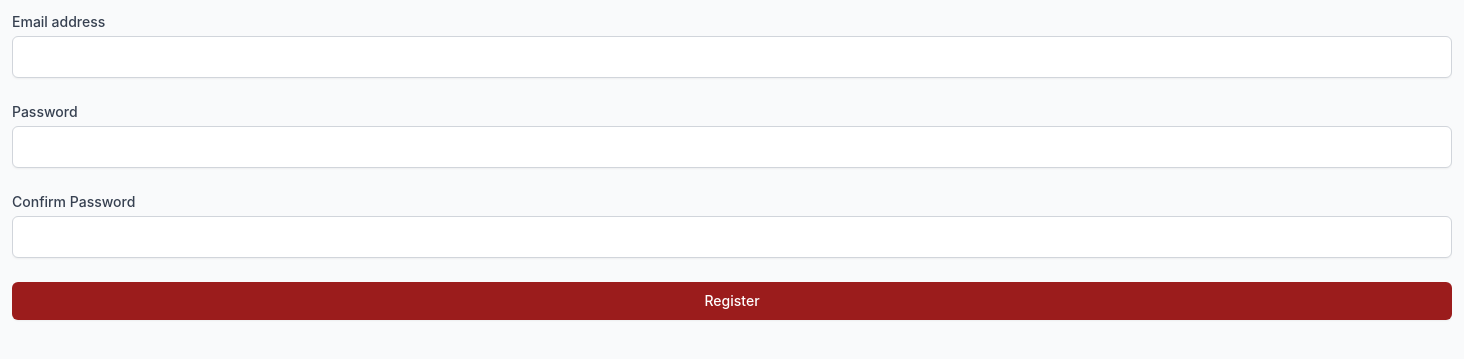
Test case: RegisterForm › User interactions › dismisses toast when clicked
The width and height of the screenshot is (1464, 359).
In the field labelled "Email address": (732,57) [12, 36, 1452, 78], type "test@example.com"
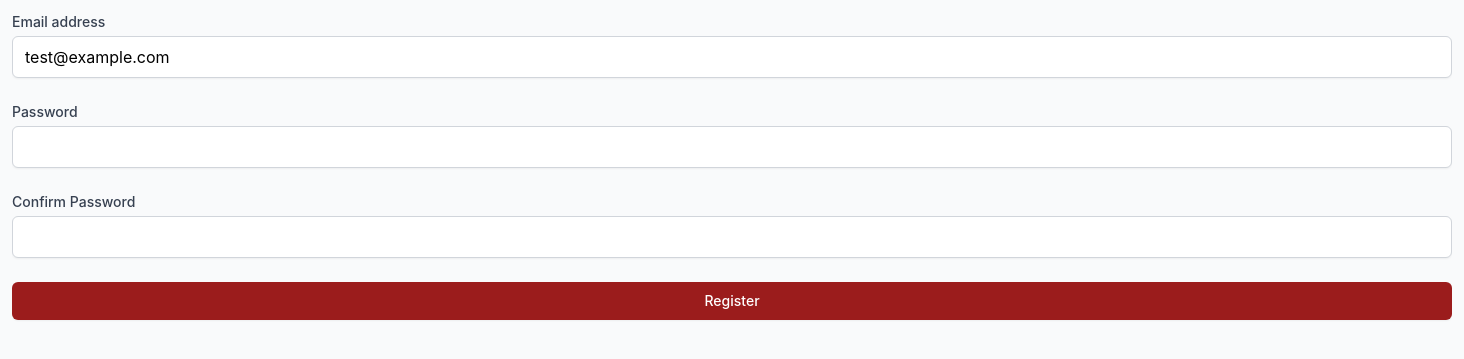
In the password field labelled "Password": (732,147) [12, 126, 1452, 168], type "password123"
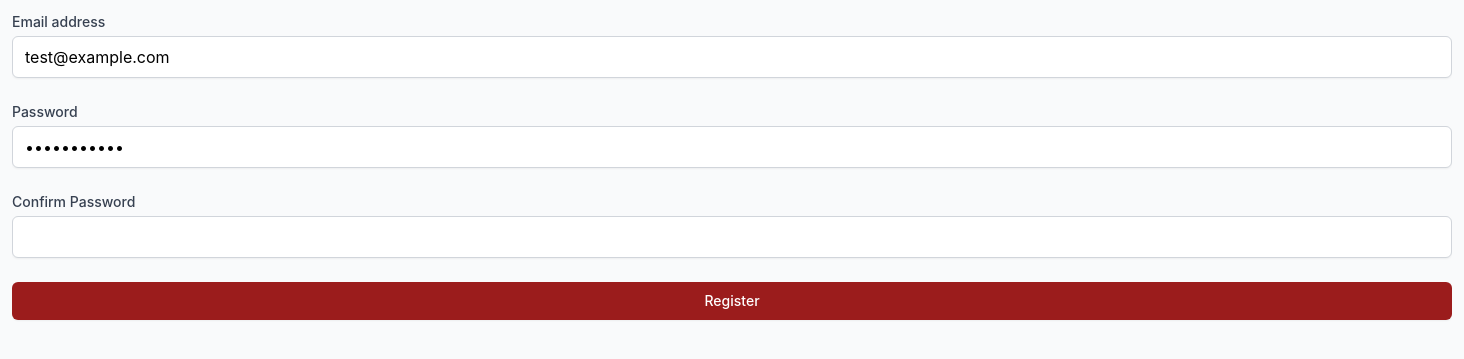
In the password field labelled "Confirm Password": (732,237) [12, 216, 1452, 258], type "different123"
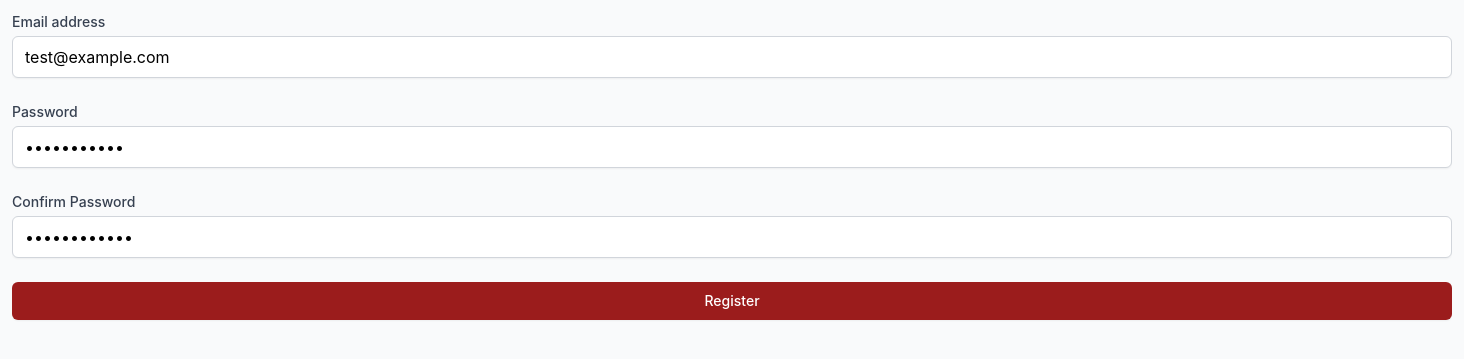
Click the button "Register": (732,301) [12, 282, 1452, 320]
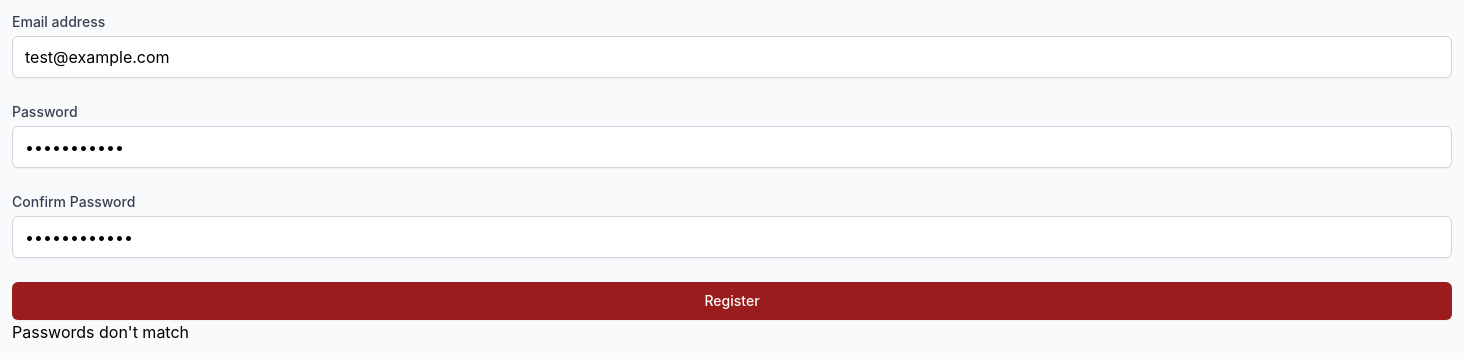
Expected: the text "Passwords don't match" is shown
Click the text with test id "mock-toast": (100,332) [12, 322, 189, 342]
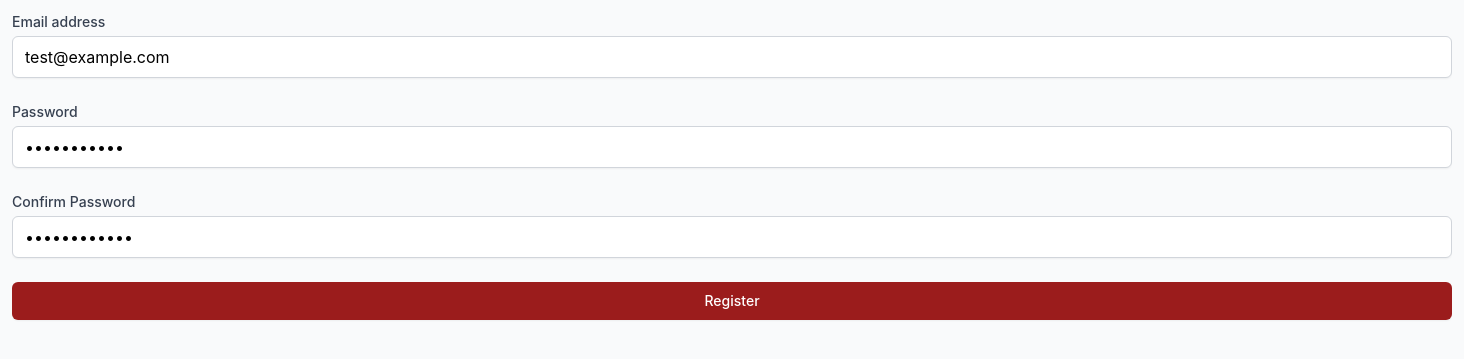
Expected: the text with test id "mock-toast" is gone
